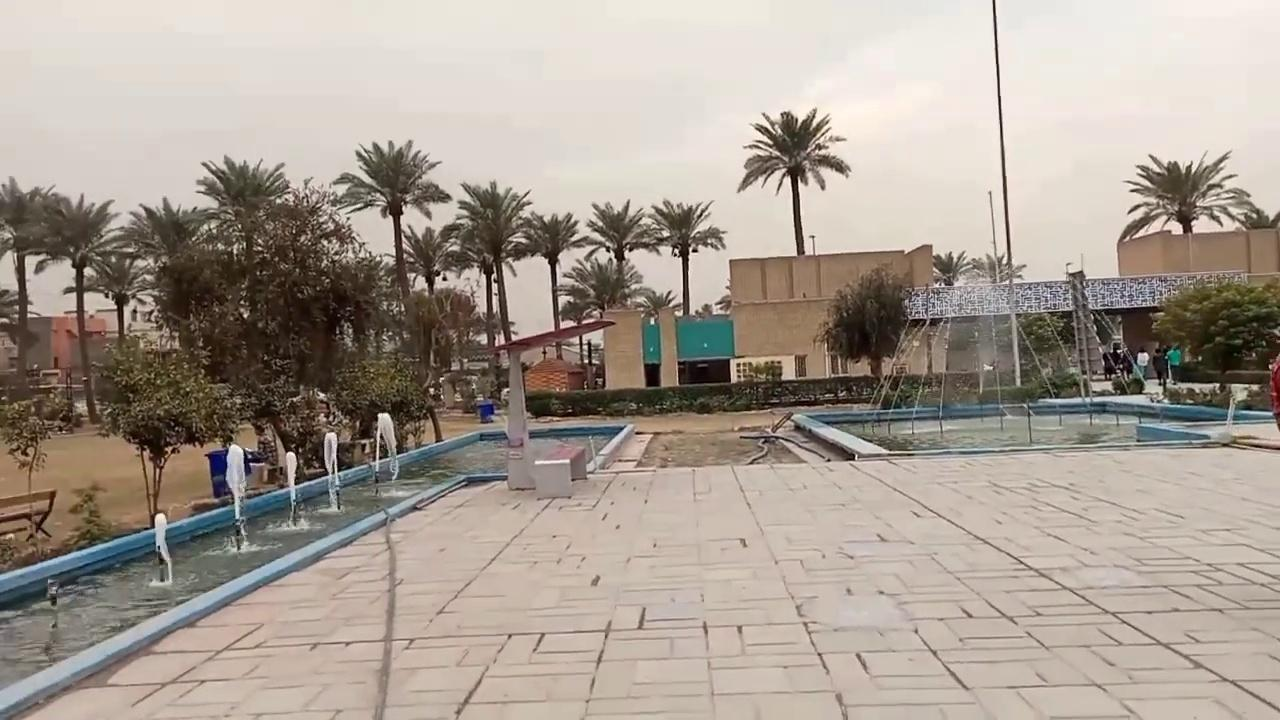fountain: (1, 274, 1275, 715), (1, 408, 635, 716), (807, 253, 1239, 461), (784, 272, 1244, 460), (788, 394, 1237, 460), (260, 450, 323, 533), (145, 511, 173, 586)
person: (1164, 343, 1181, 383), (1152, 346, 1167, 385), (1135, 346, 1149, 382)
tree: (89, 334, 241, 527), (248, 177, 377, 391), (330, 138, 451, 358), (22, 191, 129, 424), (193, 153, 291, 377), (446, 178, 534, 396), (736, 106, 851, 255), (1117, 147, 1250, 269), (122, 195, 215, 353), (0, 174, 62, 399), (1149, 276, 1279, 382), (812, 262, 916, 382), (327, 351, 442, 455), (556, 255, 643, 387), (232, 354, 325, 476), (194, 153, 291, 264), (514, 210, 585, 358), (397, 222, 462, 383), (61, 248, 157, 357), (403, 285, 484, 408), (644, 197, 727, 316), (579, 198, 654, 309), (967, 250, 1026, 386), (0, 397, 53, 539), (1014, 310, 1083, 398), (930, 249, 972, 378), (558, 255, 641, 320), (397, 222, 460, 295), (634, 288, 680, 386), (62, 479, 114, 550), (1226, 188, 1279, 229), (967, 251, 1026, 284), (931, 249, 972, 286), (634, 288, 678, 322)
